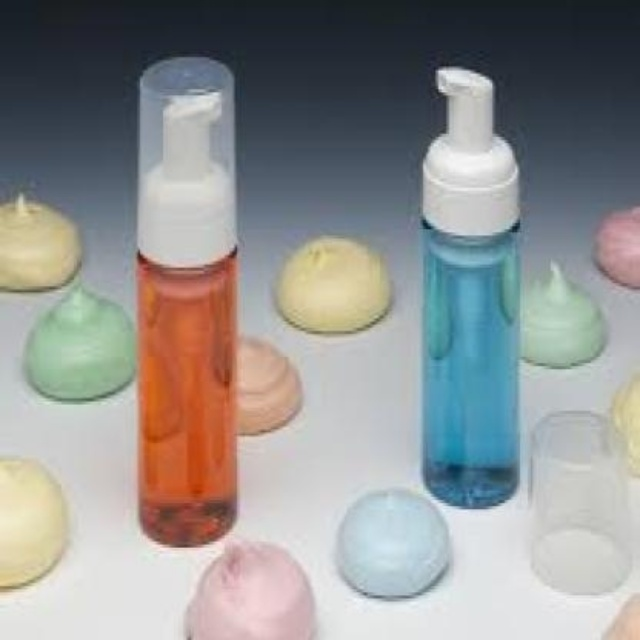trash: (137, 57, 235, 545), (423, 66, 518, 506)
